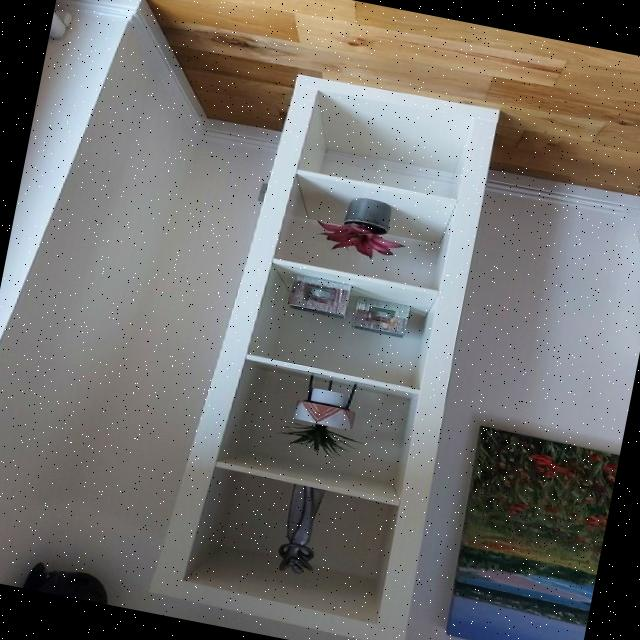Shelf: (131, 49, 517, 640)
